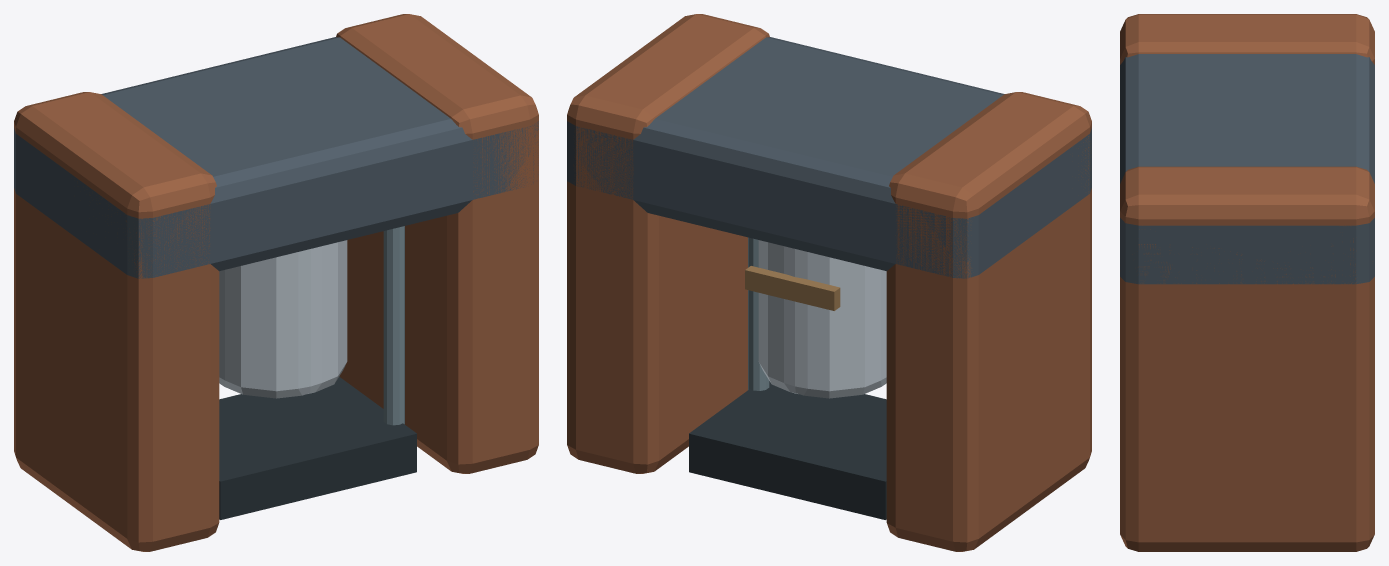
The model's file is Foundry-Press.glb.
3 views of the same model, side by side, from view 1: azimuth 30°, elevation 25°; view 2: azimuth 150°, elevation 25°; view 3: azimuth 270°, elevation 25° (orthographic). The views are drawn at different scales.
Parts seen in each view (by area): view 1: Press_Left.001, Machine_Press_Frame.001, Press_Right.001, Detail_Assembly, Press_Piston.001; view 2: Press_Left.001, Machine_Press_Frame.001, Press_Right.001, Detail_Assembly, Press_Piston.001, Detail_Assembly.001; view 3: Press_Right.001, Machine_Press_Frame.001, Press_Left.001.
Part boxes in pixels (x1,y1,x2,y2): Press_Left.001: (14, 92, 219, 551); Machine_Press_Frame.001: (14, 37, 538, 278); Press_Right.001: (336, 14, 538, 473); Detail_Assembly: (219, 226, 416, 519); Press_Piston.001: (219, 240, 347, 398); Press_Left.001: (886, 92, 1091, 551); Machine_Press_Frame.001: (567, 37, 1091, 278); Press_Right.001: (567, 14, 769, 473); Detail_Assembly: (689, 237, 886, 519); Press_Piston.001: (758, 240, 886, 398); Detail_Assembly.001: (745, 266, 840, 310); Press_Right.001: (1120, 166, 1374, 551); Machine_Press_Frame.001: (1120, 54, 1374, 284); Press_Left.001: (1120, 14, 1374, 64).
Size of the model in its own units: 2 by 1.7 by 1.1.
